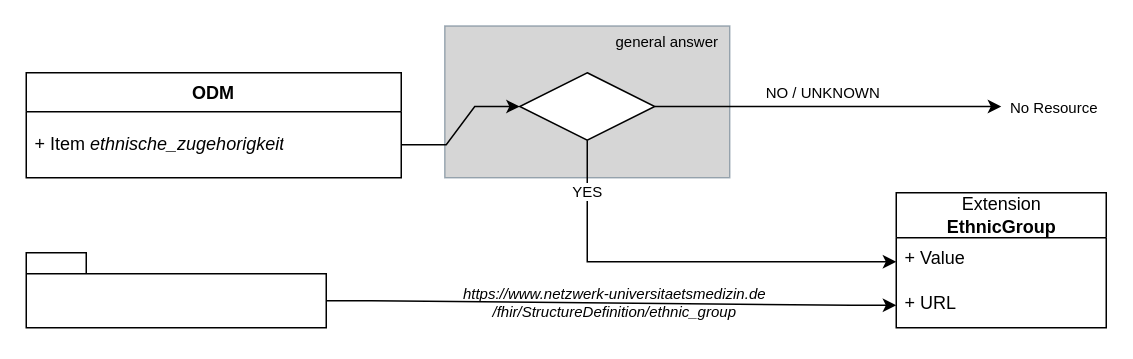
The diagram is 1133 pixels wide and 359 high, and some of its shapes have lost their labels. Here are the shapes that lost their labels. From the top down, the centre of each, then its label:
the point at 586,105: getCode()
the point at 175,289: GECCO Profiles
